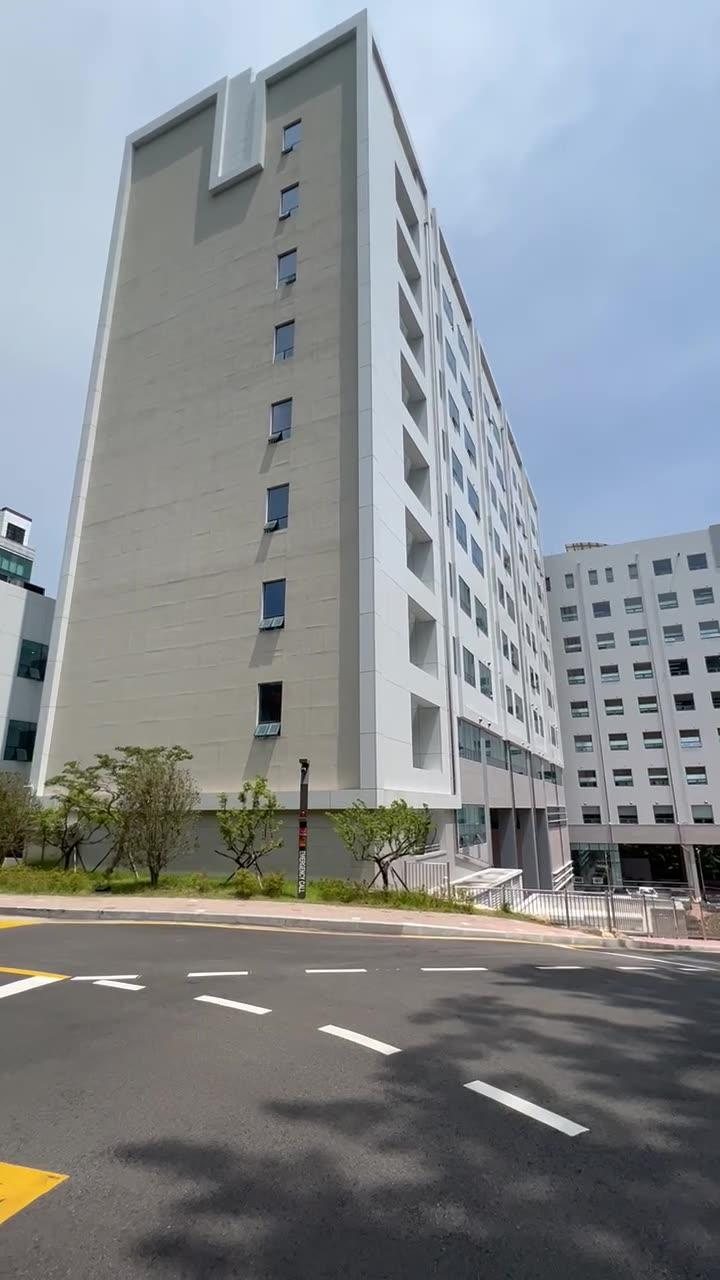building: (68, 80, 720, 826)
